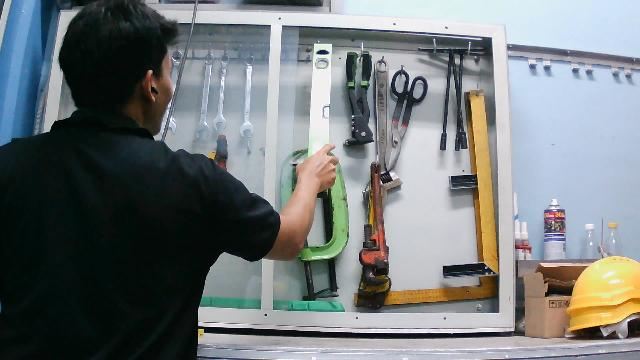water_pass: (307, 39, 335, 178)
